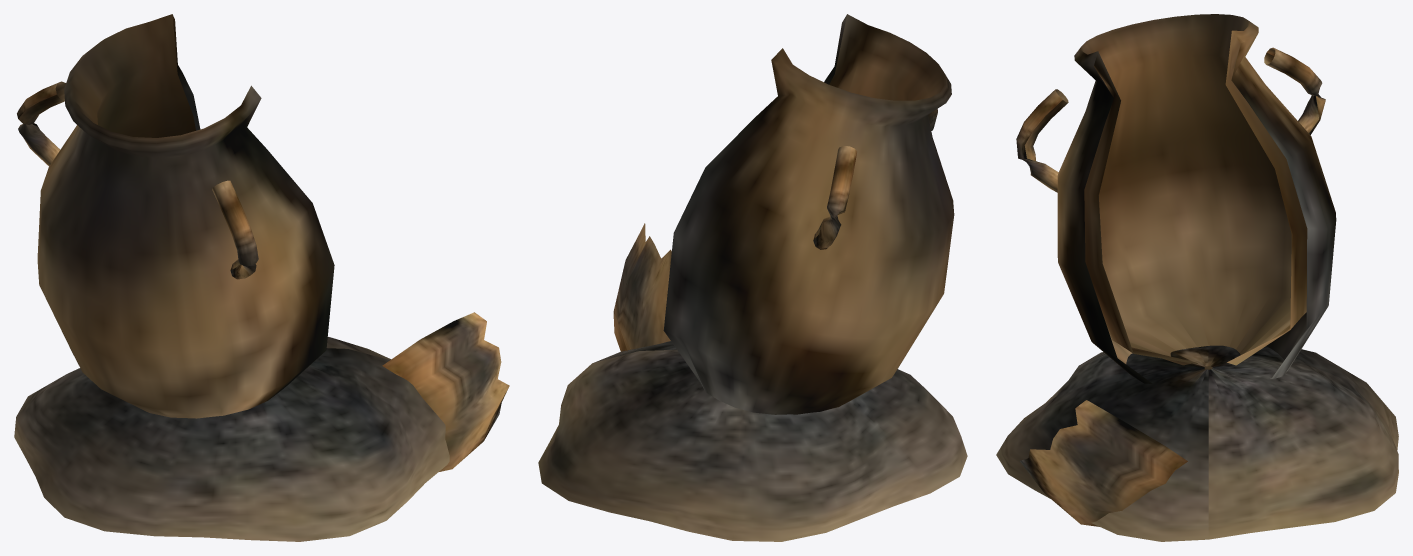
The model's file is ash-heap-potsherd.glb.
3 views of the same model, side by side, from view 1: azimuth 30°, elevation 25°; view 2: azimuth 150°, elevation 25°; view 3: azimuth 270°, elevation 25° (orthographic). The views are drawn at different scales.
Parts seen in each view (by area): view 1: HeroRelicMonument; view 2: HeroRelicMonument; view 3: HeroRelicMonument.
Part boxes in pixels (x1,y1,x2,y2): HeroRelicMonument: [14, 14, 509, 541]; HeroRelicMonument: [538, 14, 967, 541]; HeroRelicMonument: [996, 14, 1398, 541].
Size of the model in its own units: 1.97 by 2.23 by 1.93.
1 material, 1 textured.
